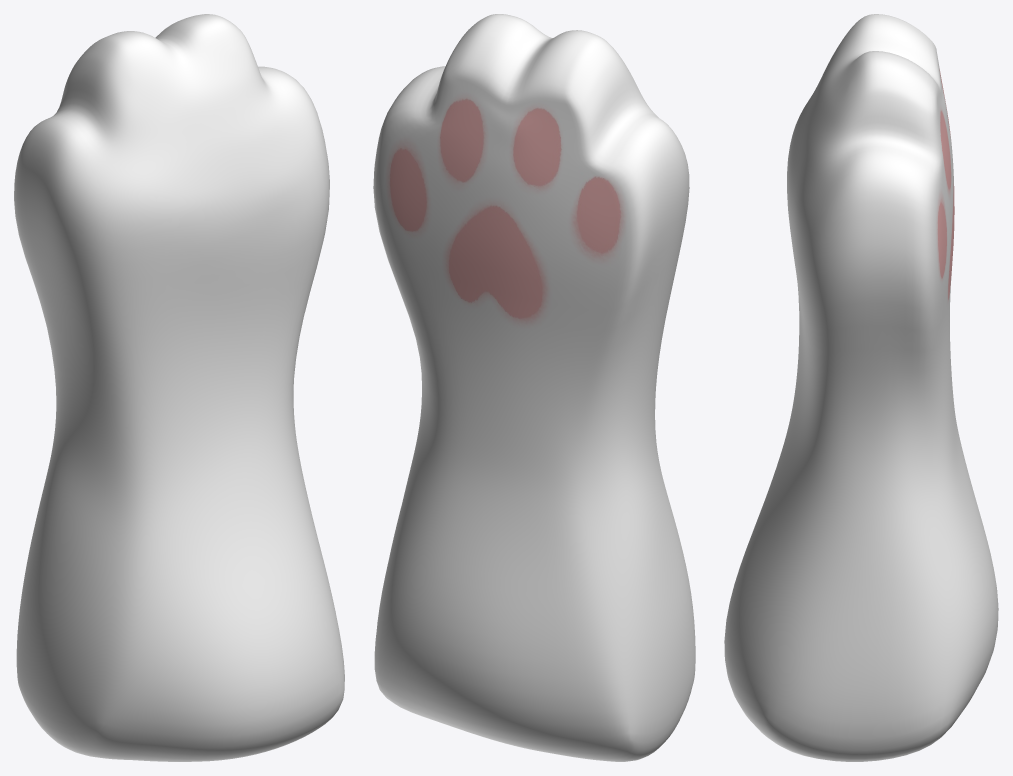
File: claw with fur and uv.fbx
3 views of the same model, side by side, from view 1: azimuth 30°, elevation 25°; view 2: azimuth 150°, elevation 25°; view 3: azimuth 270°, elevation 25° (orthographic). The views are drawn at different scales.
Parts seen in each view (by area): view 1: pCube1; view 2: pCube1; view 3: pCube1.
Boxes of the visible parts, box(x1,y1,x2,y2) form: pCube1: box(14, 14, 344, 761); pCube1: box(373, 14, 695, 761); pCube1: box(724, 14, 998, 761).
Size of the model in its own units: 2.35 by 5.75 by 2.11.
Materials: 1 (1 with a texture image).
